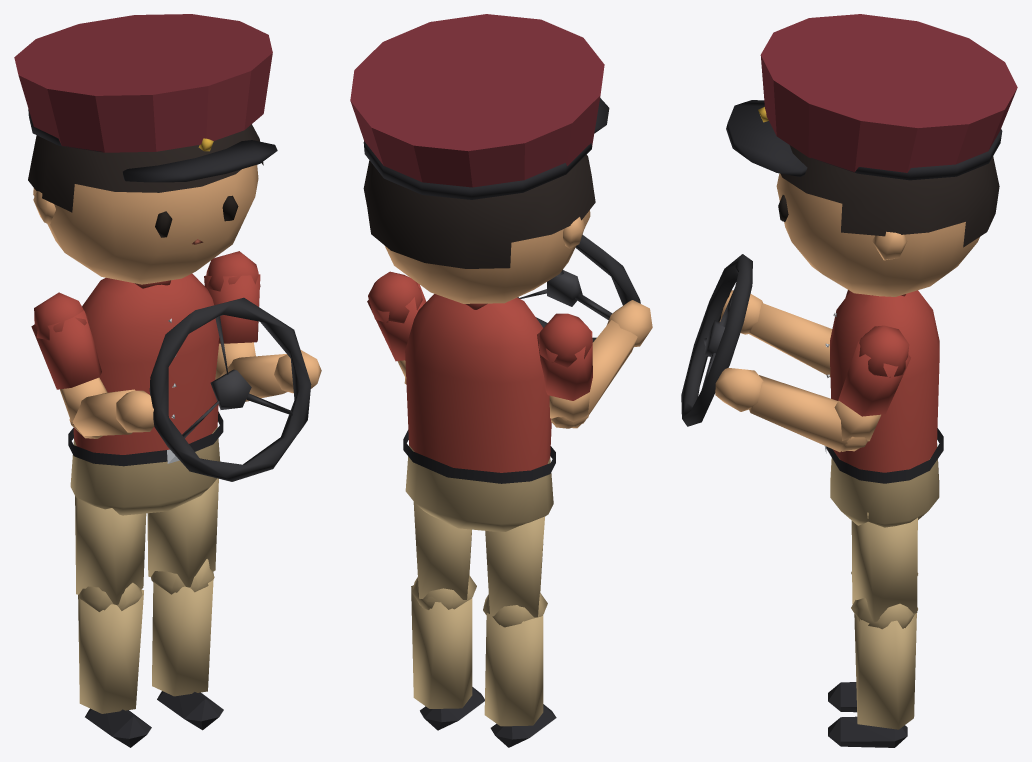
The model's file is north_bus_driver.glb.
The picture shows the model from 3 angles, left to right: view 1: azimuth 30°, elevation 25°; view 2: azimuth 150°, elevation 25°; view 3: azimuth 270°, elevation 25°; orthographic projection.
Visible parts, largest first — view 1: head, body, prop_steering_wheel, shin_R, shin_L, leg_R, leg_L, arm_R, arm_L, forearm_R, forearm_L; view 2: head, body, shin_L, shin_R, leg_R, arm_R, leg_L, forearm_R, arm_L, prop_steering_wheel; view 3: head, body, shin_L, leg_L, prop_steering_wheel, arm_L, forearm_L, forearm_R, shin_R.
Boxes of the visible parts, box(x1,y1,x2,y2) form: head: box(14, 14, 277, 284); body: box(68, 273, 223, 515); prop_steering_wheel: box(149, 297, 311, 481); shin_R: box(78, 582, 151, 747); shin_L: box(152, 559, 223, 730); leg_R: box(75, 496, 146, 611); leg_L: box(147, 478, 218, 594); arm_R: box(31, 292, 107, 438); arm_L: box(204, 251, 260, 401); forearm_R: box(71, 389, 154, 436); forearm_L: box(215, 349, 321, 400); head: box(350, 14, 609, 303); body: box(403, 294, 555, 531); shin_L: box(411, 575, 484, 730); shin_R: box(483, 593, 556, 747); leg_R: box(483, 516, 547, 627); arm_R: box(537, 313, 592, 428); leg_L: box(412, 502, 476, 609); forearm_R: box(551, 300, 652, 428); arm_L: box(367, 271, 426, 384); prop_steering_wheel: box(517, 234, 640, 342); head: box(726, 14, 1017, 296); body: box(824, 290, 943, 527); shin_L: box(828, 598, 917, 747); leg_L: box(851, 512, 917, 629); prop_steering_wheel: box(681, 254, 752, 426); arm_L: box(834, 325, 910, 451); forearm_L: box(715, 368, 865, 452); forearm_R: box(719, 290, 832, 376); shin_R: box(828, 573, 918, 712).
Bounding box in the file's own units: 0.5224 × 1.54 × 0.6946.
